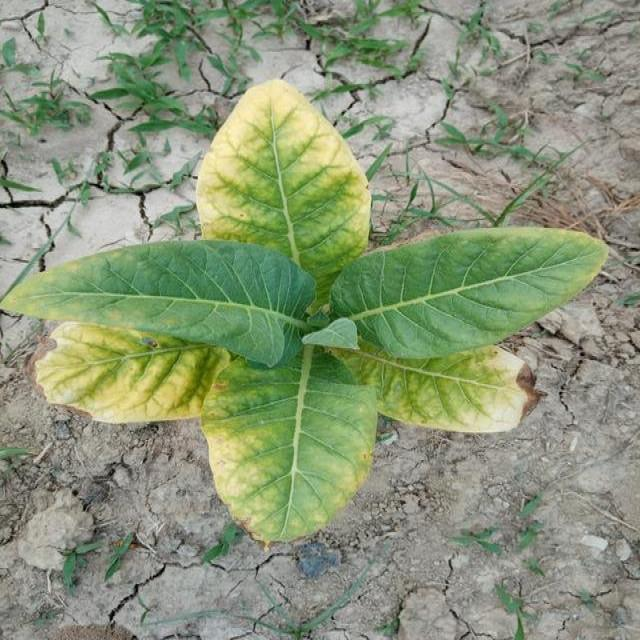crop: (1, 81, 610, 546)
